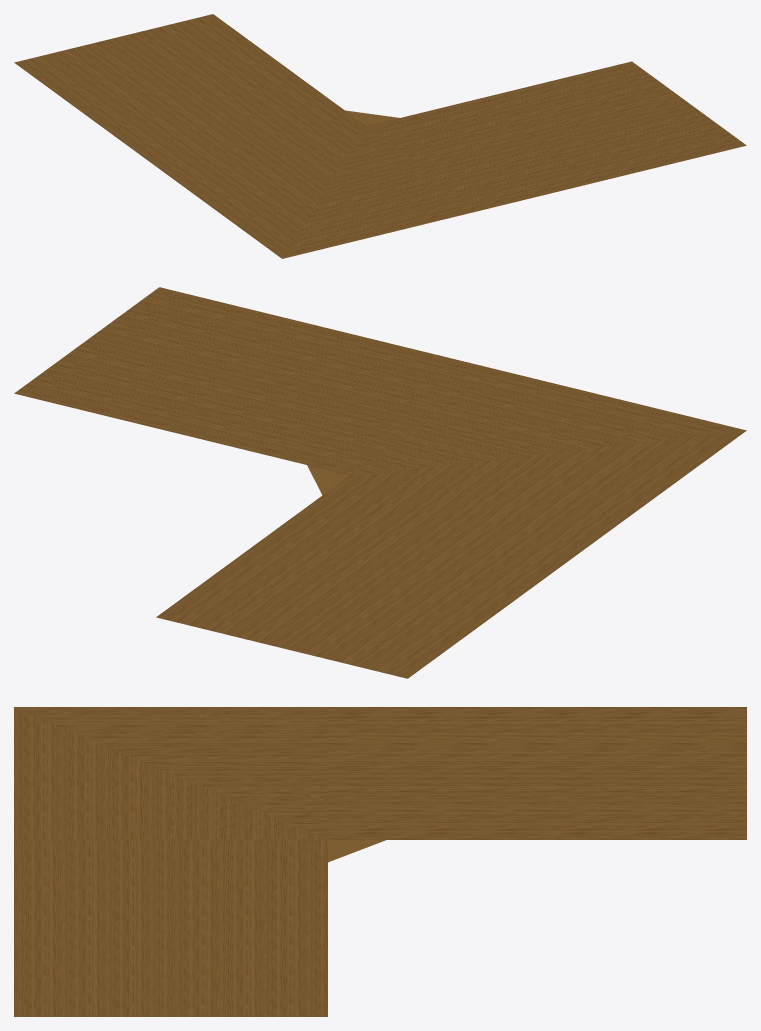
Rendered from floorwoodzak.fbx.
3 renders of one model, top to bottom at view 1: azimuth 30°, elevation 25°; view 2: azimuth 150°, elevation 25°; view 3: azimuth 270°, elevation 25°, orthographic. The views are drawn at different scales.
Visible parts, largest first — view 1: Plane.001; view 2: Plane.001; view 3: Plane.001.
Part boxes in pixels (left/top/right/bottom): Plane.001: left=14, top=14, right=746, bottom=258; Plane.001: left=14, top=287, right=746, bottom=678; Plane.001: left=14, top=707, right=746, bottom=1016.
Size of the model in its own units: 700 by 5.28e-05 by 700.
